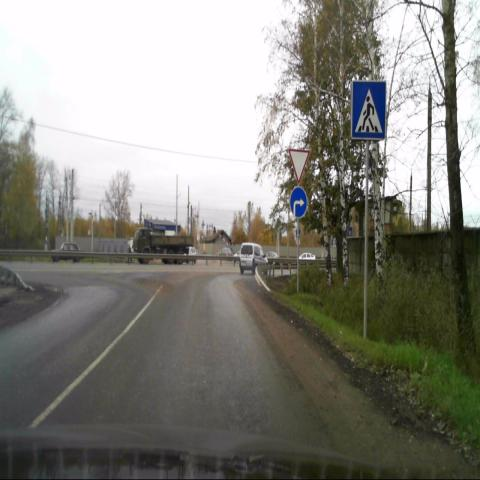4_1_2: (289, 185, 308, 220)
